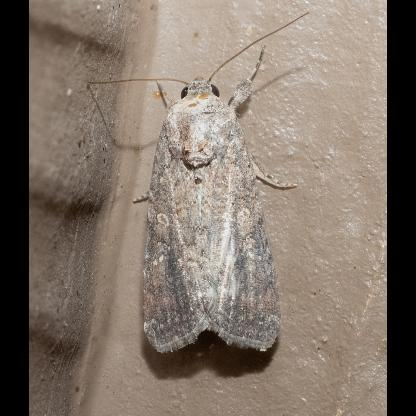Fall Armyworm Moth: (88, 10, 312, 356)
